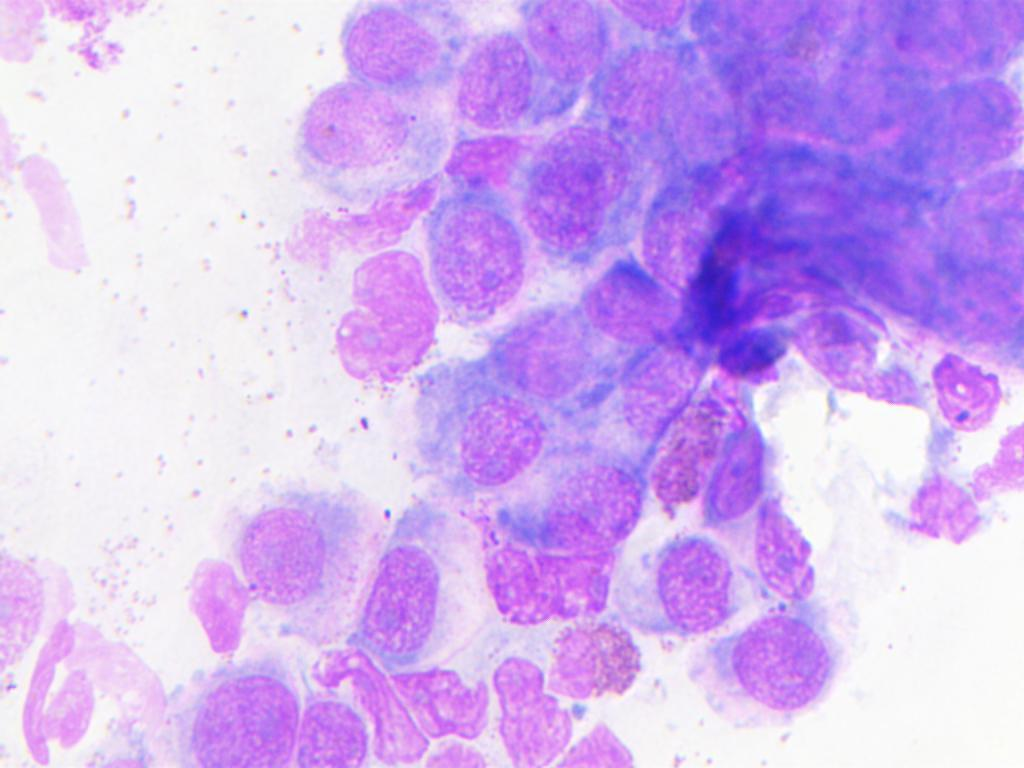artifact: (0, 0, 181, 92), (684, 251, 785, 397), (796, 300, 920, 414), (10, 142, 98, 293), (16, 621, 106, 768), (892, 470, 990, 569), (930, 336, 1007, 442), (972, 418, 1024, 511)
eosinophil: (543, 610, 652, 700)
epithelial: (178, 499, 356, 651), (325, 239, 456, 391), (285, 83, 441, 196), (463, 520, 629, 619), (639, 154, 754, 294), (519, 122, 634, 253), (649, 381, 761, 514), (710, 609, 854, 712), (353, 534, 459, 667), (421, 198, 534, 319), (341, 4, 478, 102), (427, 388, 546, 489), (467, 308, 594, 401), (186, 669, 300, 767), (628, 536, 743, 631), (483, 646, 574, 764), (548, 460, 657, 554), (502, 0, 616, 87), (586, 46, 689, 133), (752, 483, 827, 600), (458, 30, 543, 128), (615, 337, 706, 426), (0, 542, 49, 688), (298, 689, 374, 768), (588, 0, 712, 41)
goblet_cell: (576, 251, 676, 343)
metaplastic: (703, 427, 780, 524)
